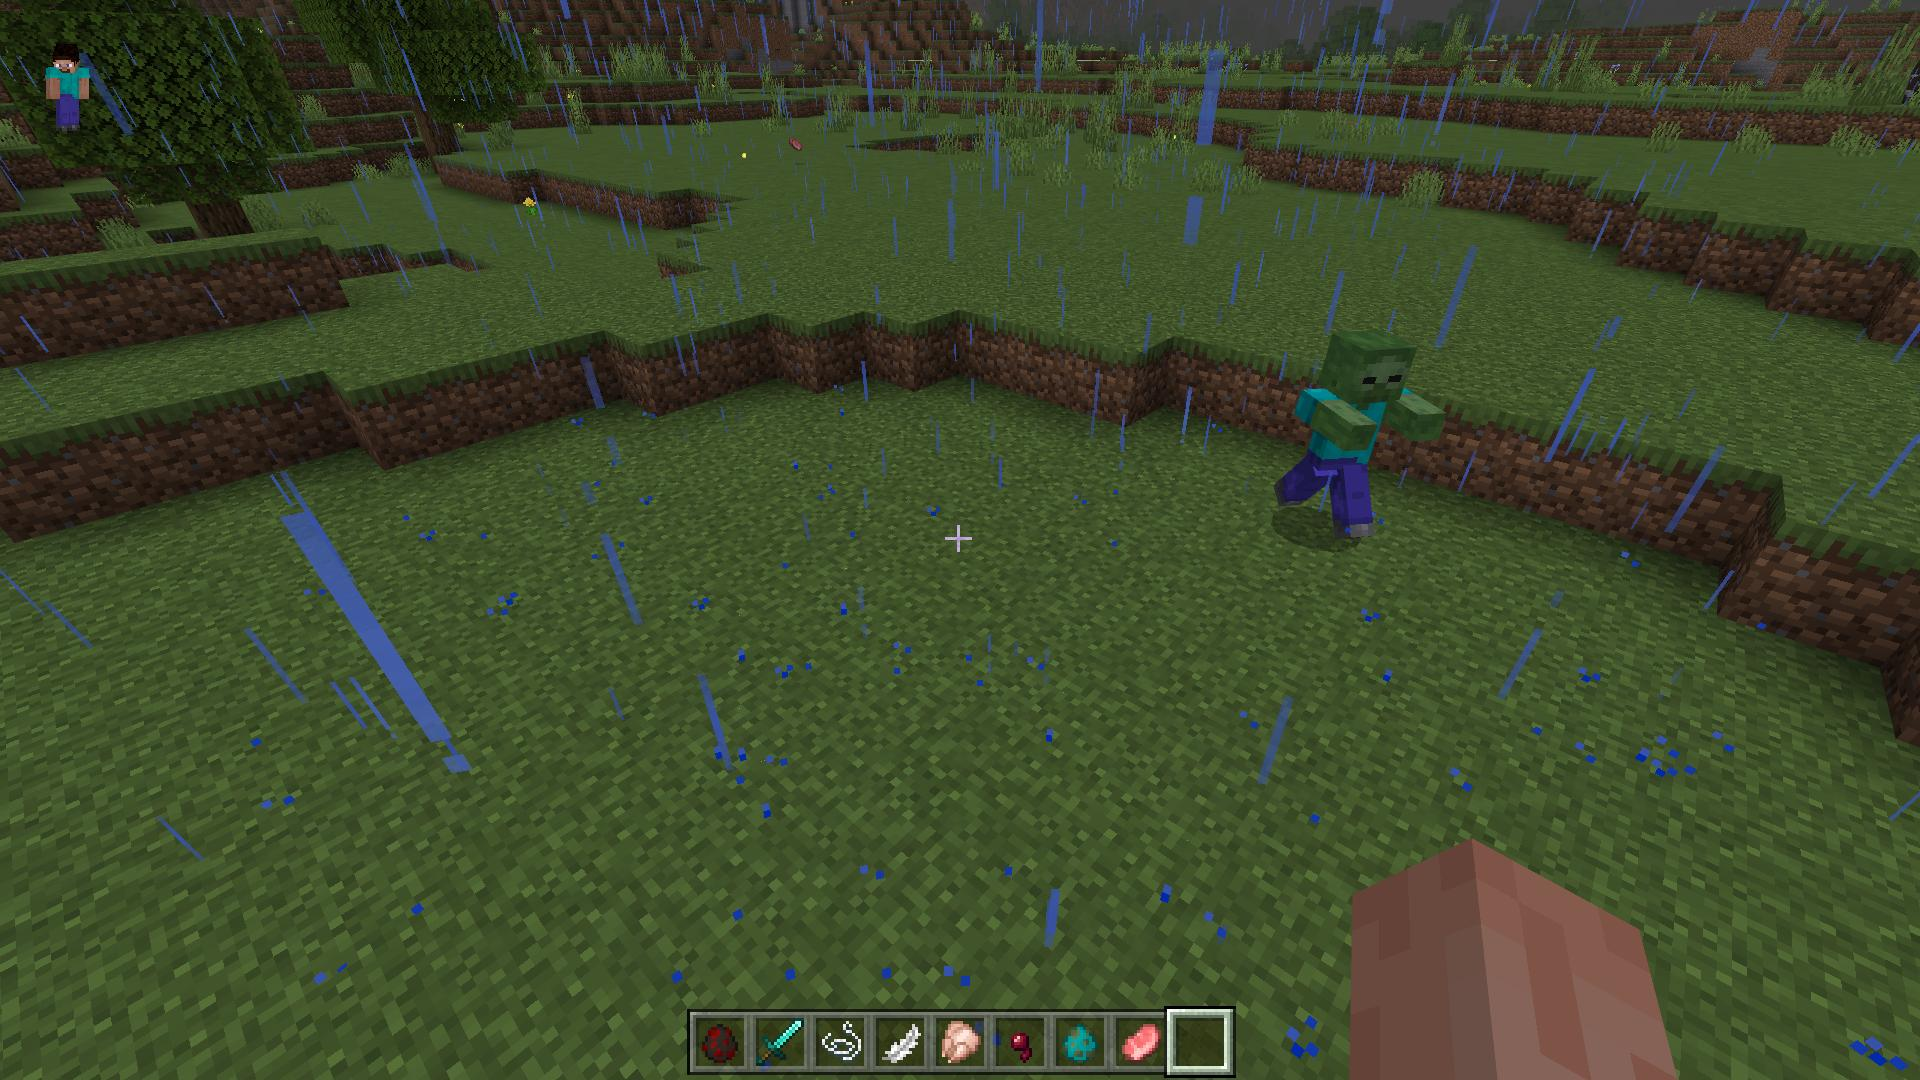zombie: (1278, 328, 1444, 547)
